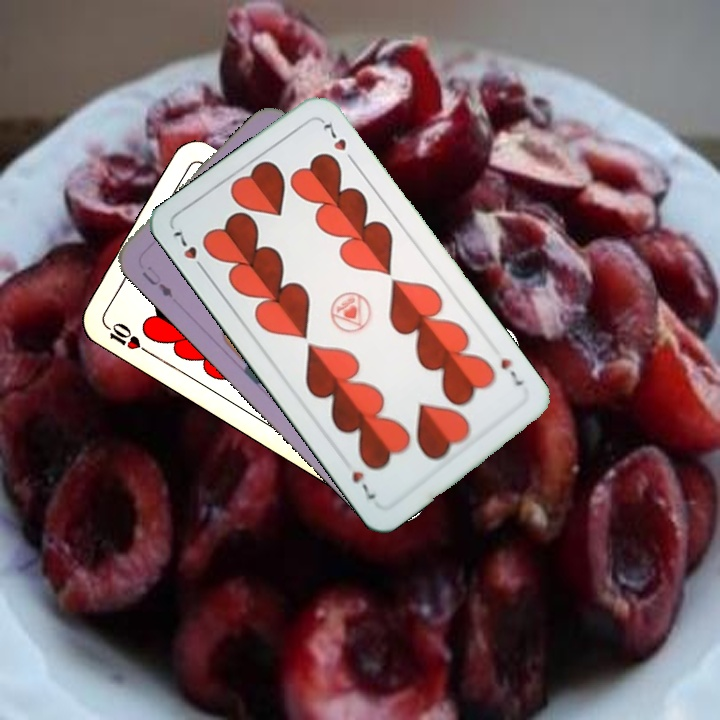EU: (137, 262, 176, 301)
H10: (99, 318, 152, 356)
H7: (169, 227, 210, 276), (496, 354, 527, 390)
